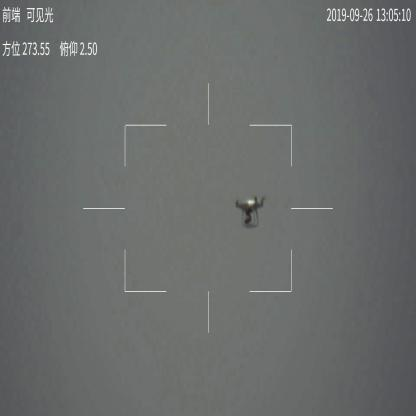uav: (230, 191, 270, 229)
